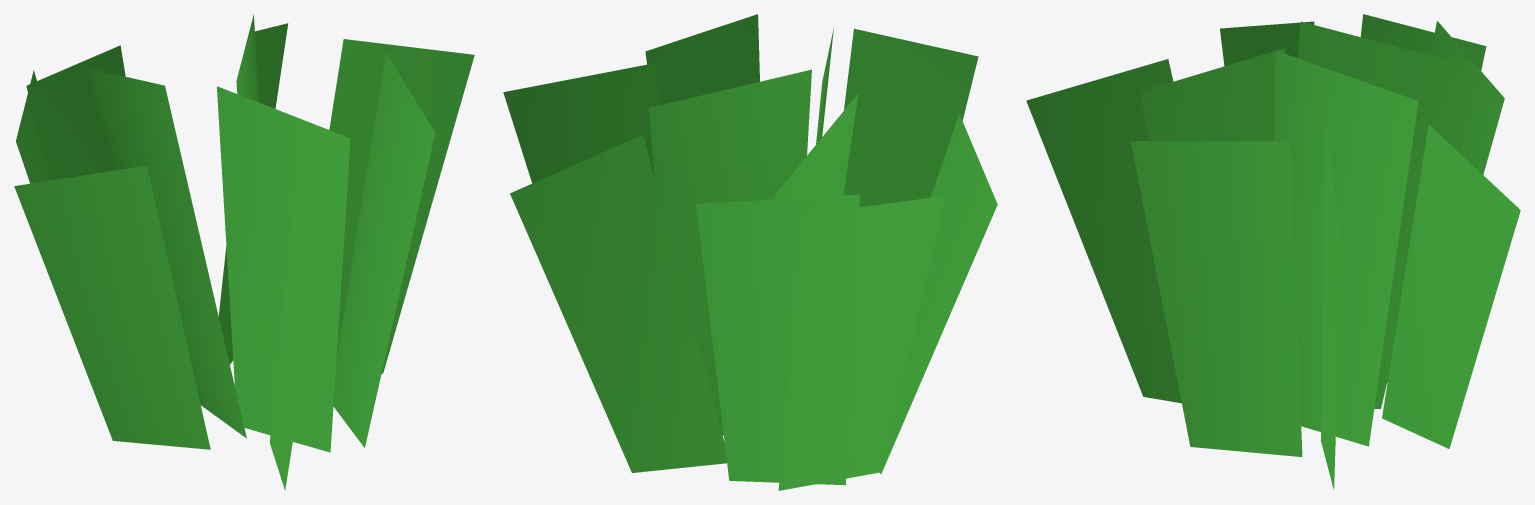
Rendered from Plant_Grass_03.fbx.
3 renders of one model, left to right at view 1: azimuth 30°, elevation 25°; view 2: azimuth 150°, elevation 25°; view 3: azimuth 270°, elevation 25°, orthographic.
Visible parts, largest first — view 1: Plant_Grass_03_LOD1; view 2: Plant_Grass_03_LOD1; view 3: Plant_Grass_03_LOD1.
Boxes of the visible parts, x1=… form: Plant_Grass_03_LOD1: x1=14, y1=14, x2=474, y2=490; Plant_Grass_03_LOD1: x1=503, y1=14, x2=997, y2=490; Plant_Grass_03_LOD1: x1=1026, y1=14, x2=1520, y2=489.
Size of the model in its own units: 74.18 by 53.39 by 67.33.
